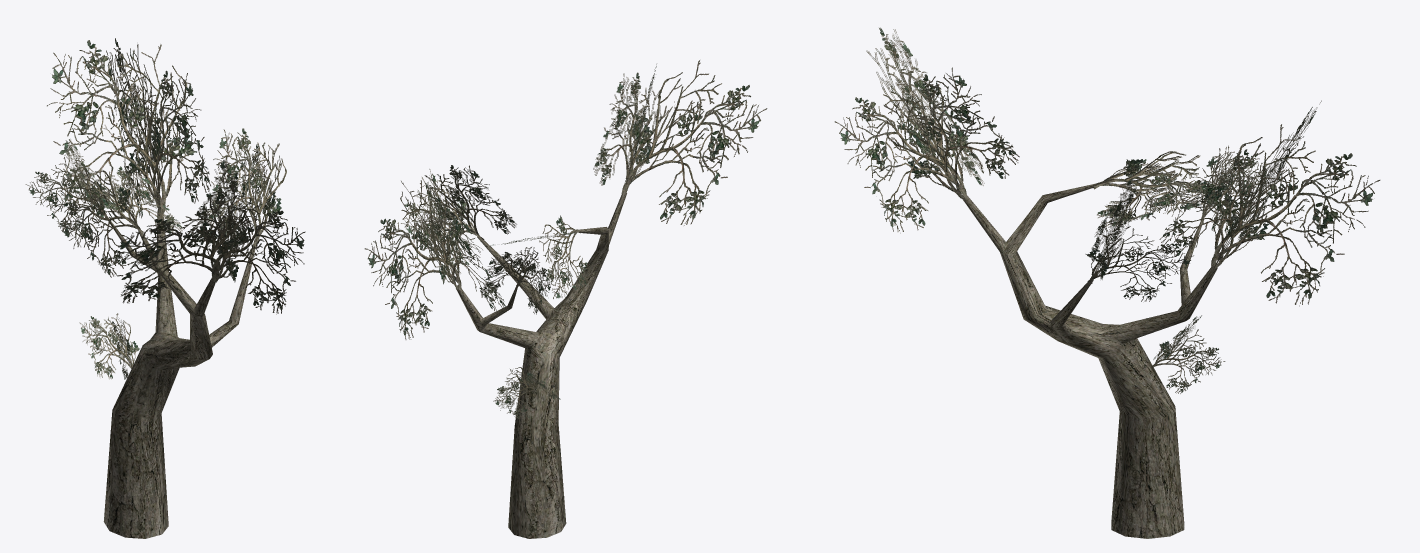
Rendered from mtns_shrb_gnarled_l0.fbx.
3 views of the same model, side by side, from view 1: azimuth 30°, elevation 25°; view 2: azimuth 150°, elevation 25°; view 3: azimuth 270°, elevation 25° (orthographic). The views are drawn at different scales.
Parts seen in each view (by area): view 1: mesh_node; view 2: mesh_node; view 3: mesh_node.
Boxes of the visible parts, x1,y1,x2,y2 form: mesh_node: (25, 38, 305, 538); mesh_node: (364, 60, 767, 538); mesh_node: (834, 27, 1380, 538).
Size of the model in its own units: 3.64 by 4.95 by 5.47.
